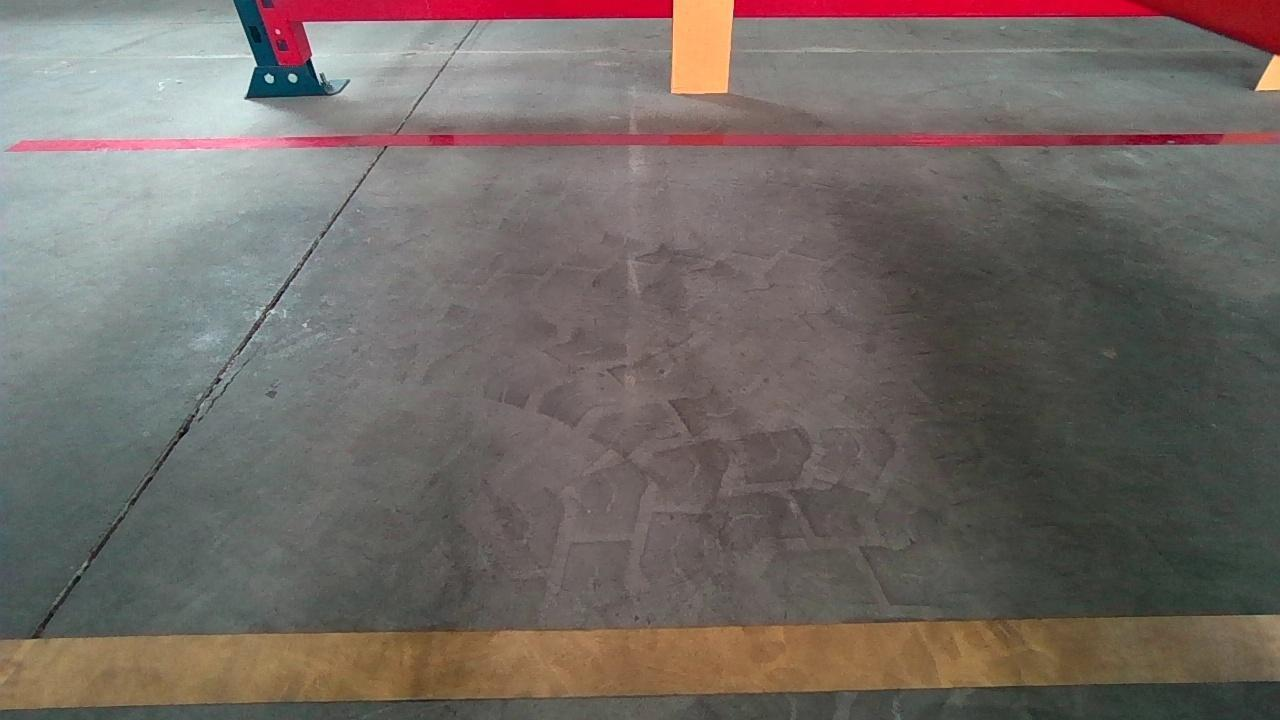orange_strip: (671, 0, 733, 92)
red_line: (13, 130, 1280, 151)
